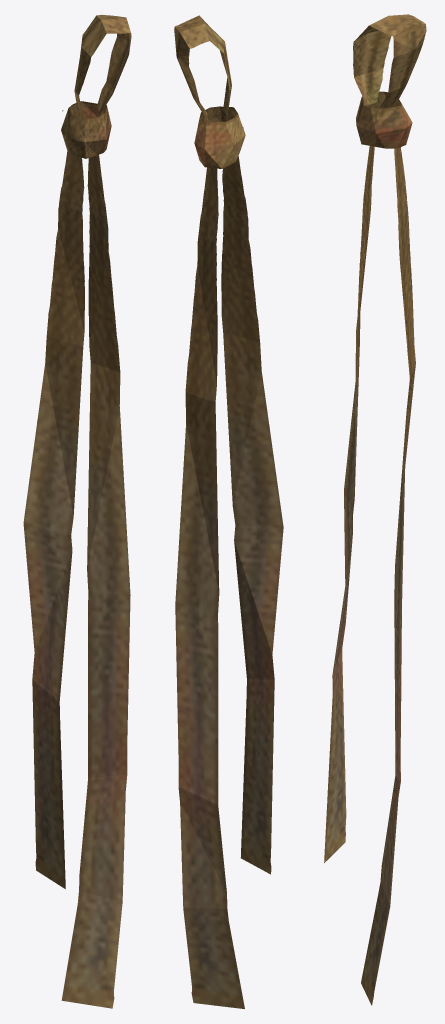
Rendered from bg_anh_mirrorv_febricline01_sm_phs.FBX.
The picture shows the model from 3 angles, left to right: view 1: azimuth 30°, elevation 25°; view 2: azimuth 210°, elevation 25°; view 3: azimuth 330°, elevation 25°; orthographic projection.
Parts seen in each view (by area): view 1: bg_anh_mirrorv_febricline01_sm_phs; view 2: bg_anh_mirrorv_febricline01_sm_phs; view 3: bg_anh_mirrorv_febricline01_sm_phs.
Part boxes in pixels (x1,y1,x2,y2): bg_anh_mirrorv_febricline01_sm_phs: (23, 14, 131, 1008); bg_anh_mirrorv_febricline01_sm_phs: (174, 15, 283, 1008); bg_anh_mirrorv_febricline01_sm_phs: (324, 14, 426, 1005).
Size of the model in its own units: 21.64 by 216 by 15.76.
